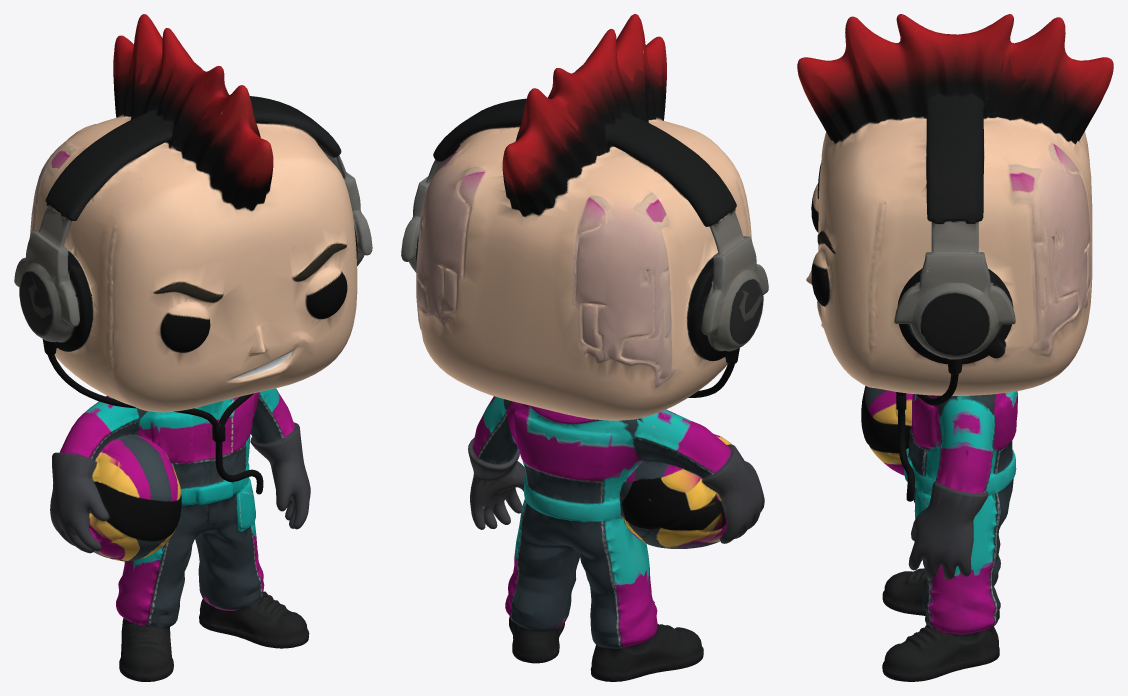
File: avatar_comun_4.glb
3 views of the same model, side by side, from view 1: azimuth 30°, elevation 25°; view 2: azimuth 150°, elevation 25°; view 3: azimuth 270°, elevation 25° (orthographic). The views are drawn at different scales.
Parts seen in each view (by area): view 1: Mesh_0; view 2: Mesh_0; view 3: Mesh_0.
Part boxes in pixels (x1,y1,x2,y2): Mesh_0: (14, 14, 372, 681); Mesh_0: (401, 14, 768, 681); Mesh_0: (797, 14, 1113, 681).
Bounding box in the file's own units: 1.06 × 1.9 × 0.8767.
1 material, 1 textured.
